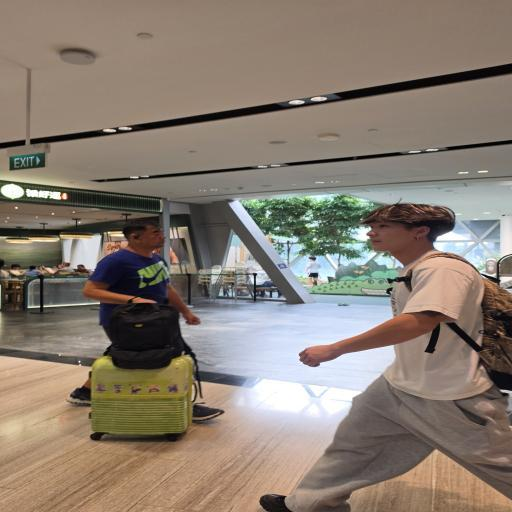person_left: (317, 191, 512, 512), (296, 248, 328, 294)
person_with_luggage_right: (83, 215, 233, 434)
